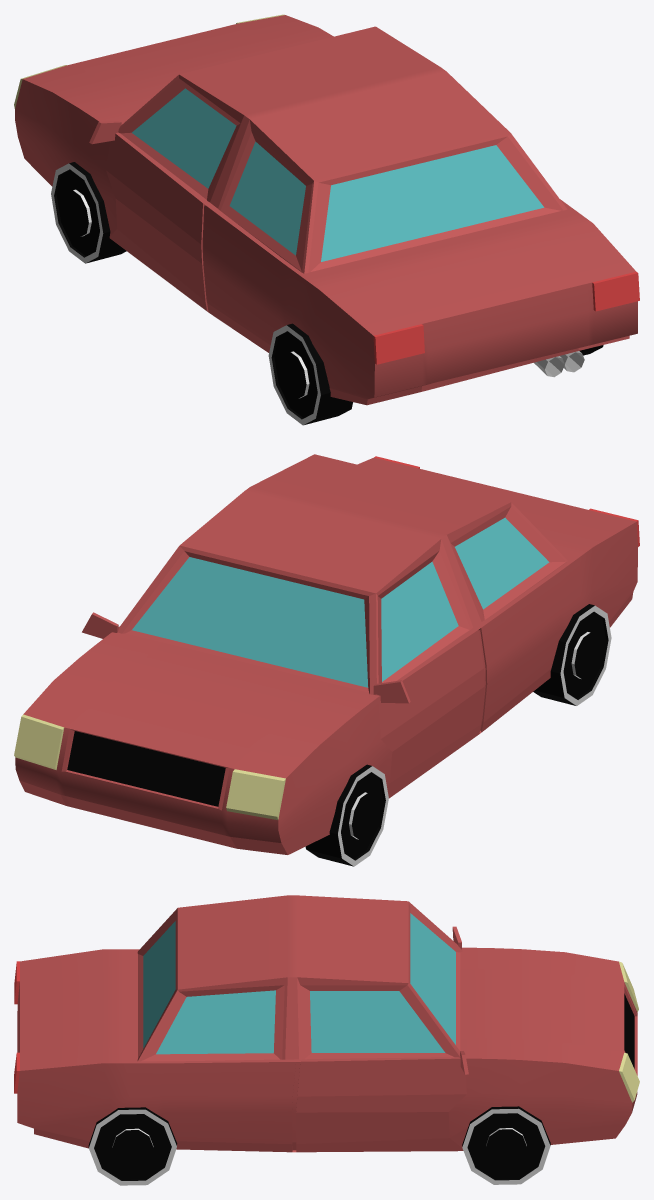
Rendered from car2.fbx.
The picture shows the model from 3 angles, top to bottom: view 1: azimuth 30°, elevation 25°; view 2: azimuth 150°, elevation 25°; view 3: azimuth 270°, elevation 25°; orthographic projection. The views are drawn at different scales.
Parts seen in each view (by area): view 1: polySurface1; view 2: polySurface1; view 3: polySurface1.
Boxes of the visible parts, x1,y1,x2,y2 form: polySurface1: (14, 14, 639, 425); polySurface1: (14, 454, 639, 866); polySurface1: (14, 895, 639, 1185).
Size of the model in its own units: 6.62 by 4.37 by 13.08.
